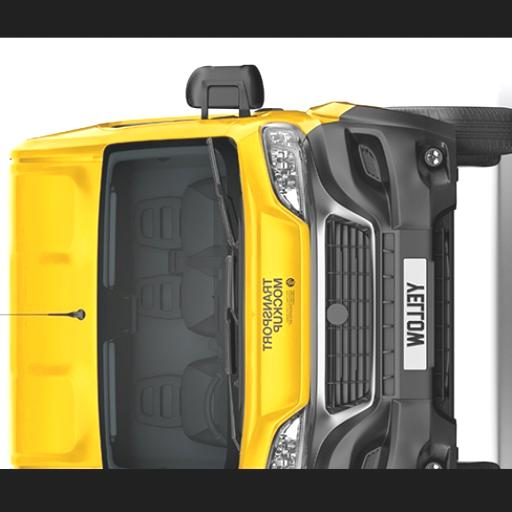van: (8, 64, 512, 470)
